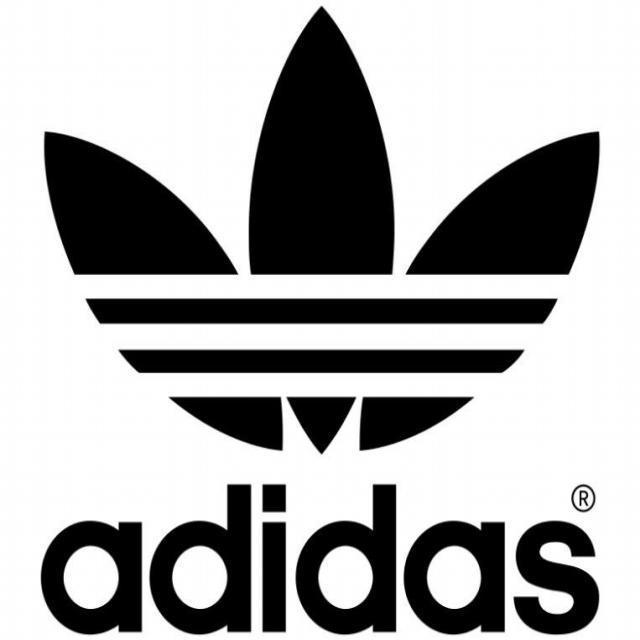Adidas: (25, 0, 636, 462)
